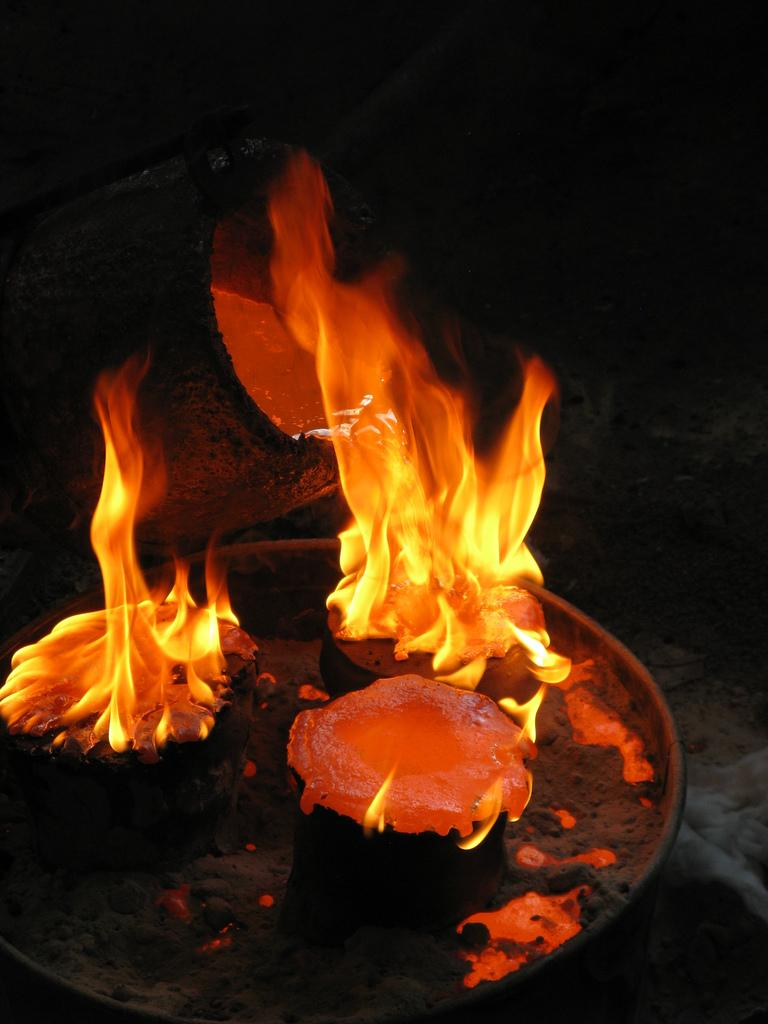fire: (348, 385, 558, 670), (95, 425, 198, 700)
